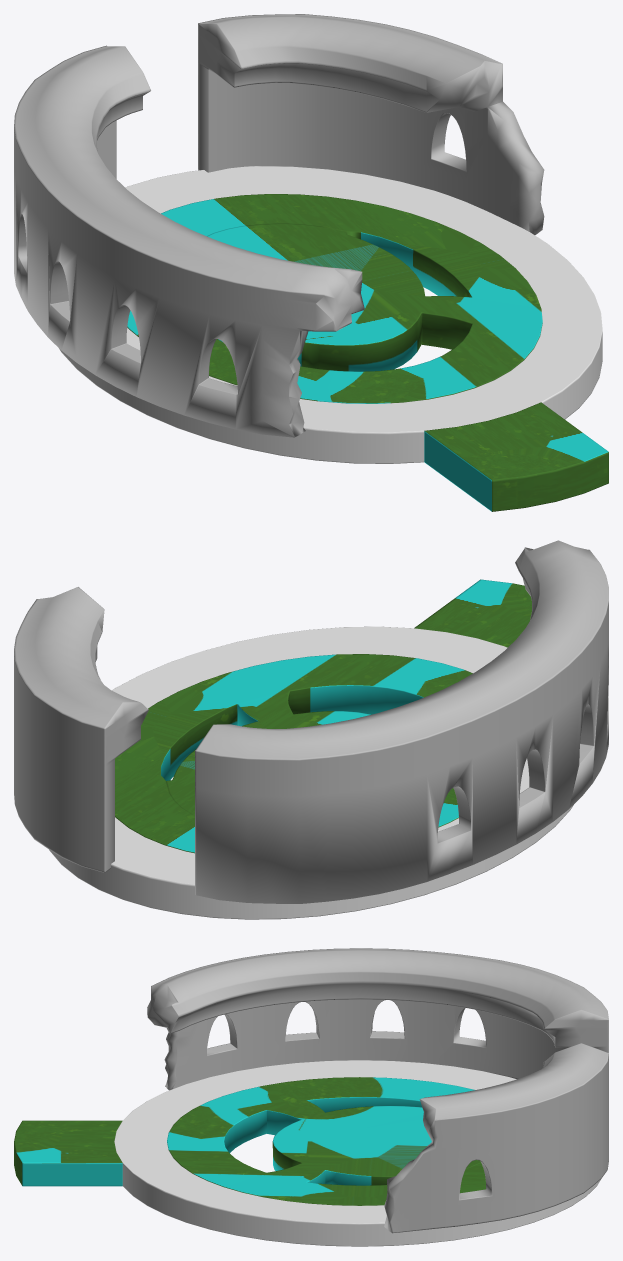
The model's file is goddessShrineUpdates.fbx.
3 renders of one model, top to bottom at view 1: azimuth 30°, elevation 25°; view 2: azimuth 150°, elevation 25°; view 3: azimuth 270°, elevation 25°, orthographic. The views are drawn at different scales.
Visible parts, largest first — view 1: outerWalls, floor, floorGlass; view 2: outerWalls, floor, floorGlass; view 3: outerWalls, floor, floorGlass.
Boxes of the visible parts, box(x1,y1,x2,y2) form: outerWalls: box(14, 14, 544, 437); floor: box(127, 194, 608, 511); floorGlass: box(59, 166, 602, 463); outerWalls: box(14, 540, 608, 903); floor: box(115, 579, 531, 853); floorGlass: box(49, 626, 573, 919); outerWalls: box(147, 948, 608, 1233); floor: box(14, 1077, 485, 1205); floorGlass: box(114, 1060, 600, 1246).
Bounding box in the file's own units: 3539 × 1297 × 5066.
